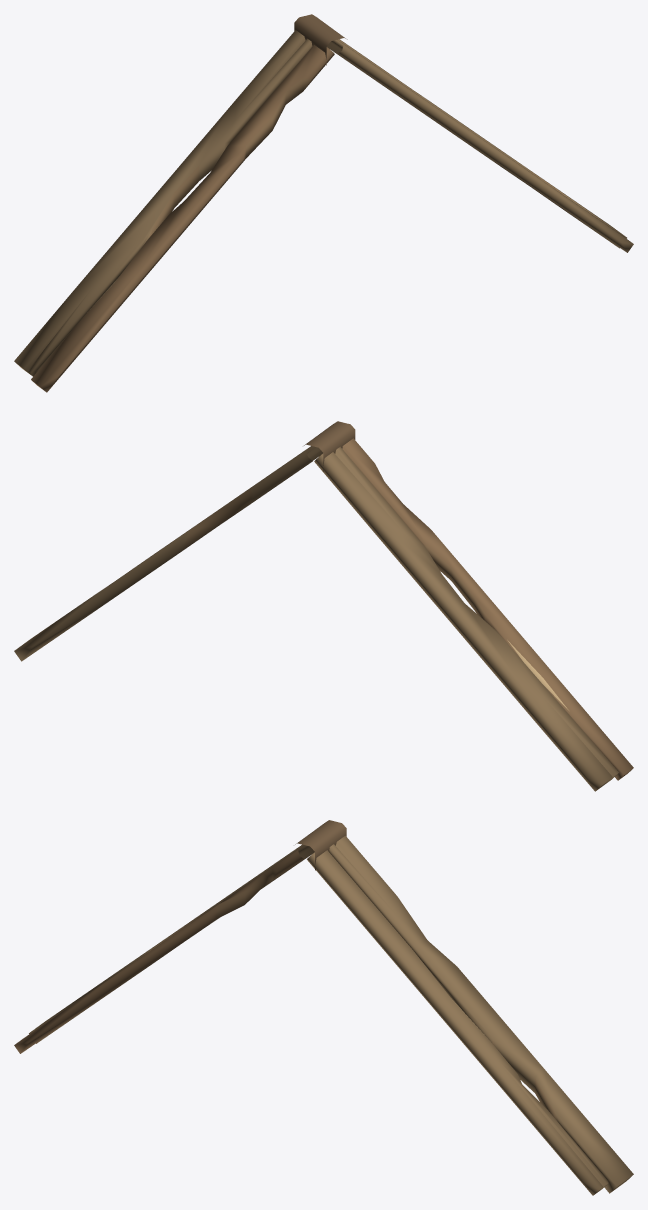
Rendered from rpgpp_av_roof_02_9x4x3_end_01.gltf.
The picture shows the model from 3 angles, top to bottom: view 1: azimuth 30°, elevation 25°; view 2: azimuth 150°, elevation 25°; view 3: azimuth 330°, elevation 25°; orthographic projection.
Visible parts, largest first — view 1: rpgpp_av_roof_02_9x4x3_end_01; view 2: rpgpp_av_roof_02_9x4x3_end_01; view 3: rpgpp_av_roof_02_9x4x3_end_01.
Part boxes in pixels (box(x1,y1,x2,y2)): rpgpp_av_roof_02_9x4x3_end_01: box(14, 14, 633, 392); rpgpp_av_roof_02_9x4x3_end_01: box(14, 421, 633, 791); rpgpp_av_roof_02_9x4x3_end_01: box(14, 820, 633, 1195).
Bounding box in the file's own units: 0.1068 × 0.0497 × 0.01.
Materials: 1 (1 with a texture image).
